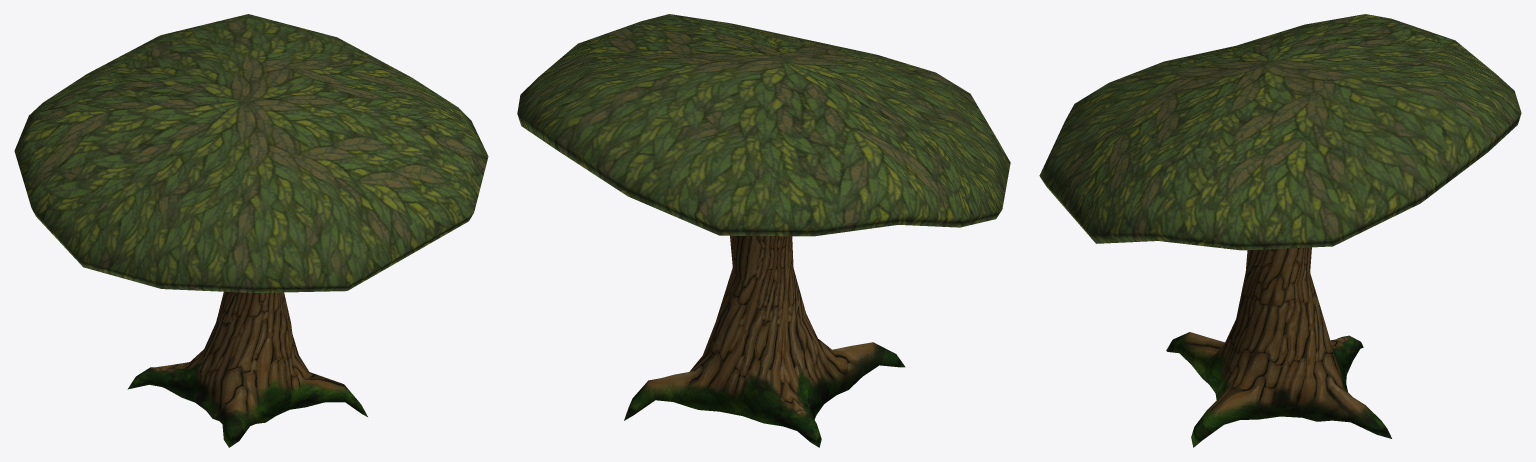
Rendered from TwistedOak3Shape.dae.
3 views of the same model, side by side, from view 1: azimuth 30°, elevation 25°; view 2: azimuth 150°, elevation 25°; view 3: azimuth 270°, elevation 25° (orthographic). The views are drawn at different scales.
Visible parts, largest first — view 1: TwistedOak3; view 2: TwistedOak3; view 3: TwistedOak3.
Part boxes in pixels (left/top/right/bottom): TwistedOak3: left=14, top=14, right=488, bottom=447; TwistedOak3: left=517, top=14, right=1010, bottom=447; TwistedOak3: left=1039, top=14, right=1521, bottom=447.
Bounding box in the file's own units: 77.55 × 58.97 × 74.38.
